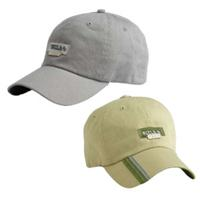hat: (7, 10, 150, 107), (83, 96, 194, 188)
